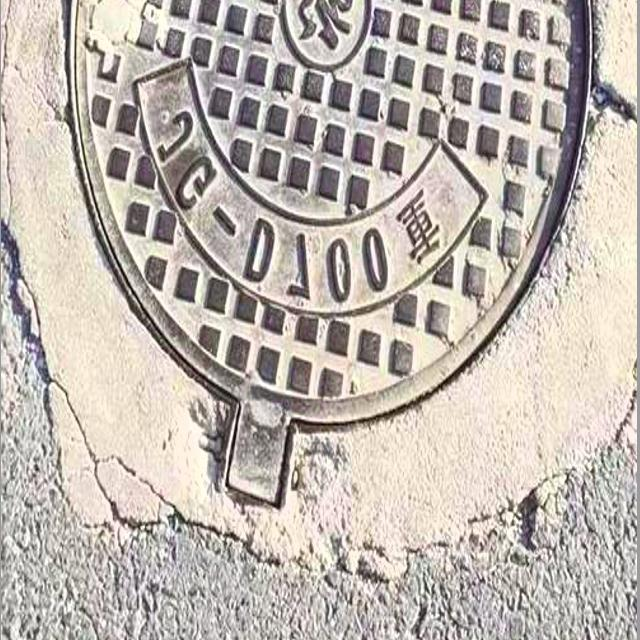circle: (23, 0, 618, 552)
